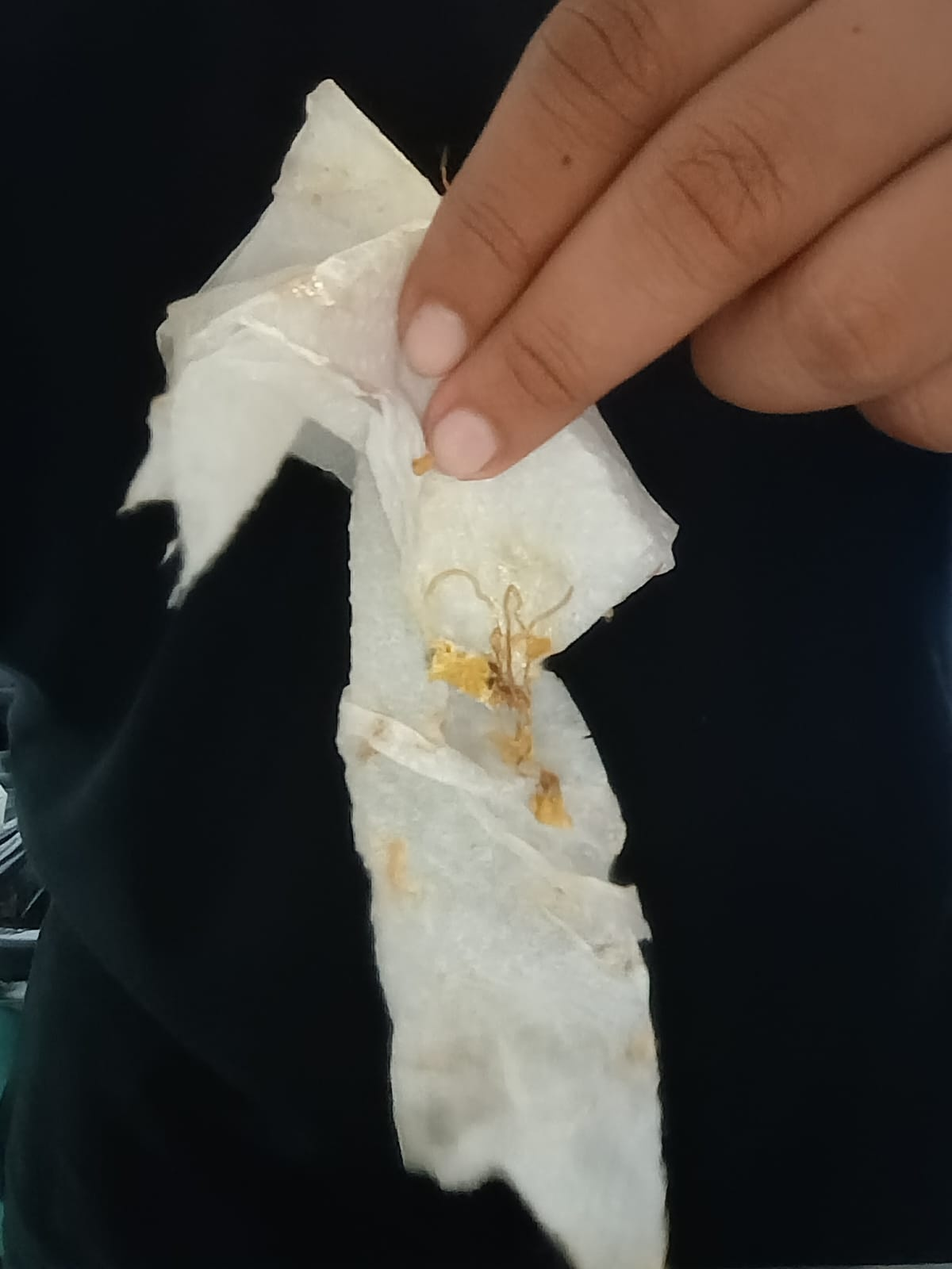Ordinario: (127, 78, 678, 1269)
